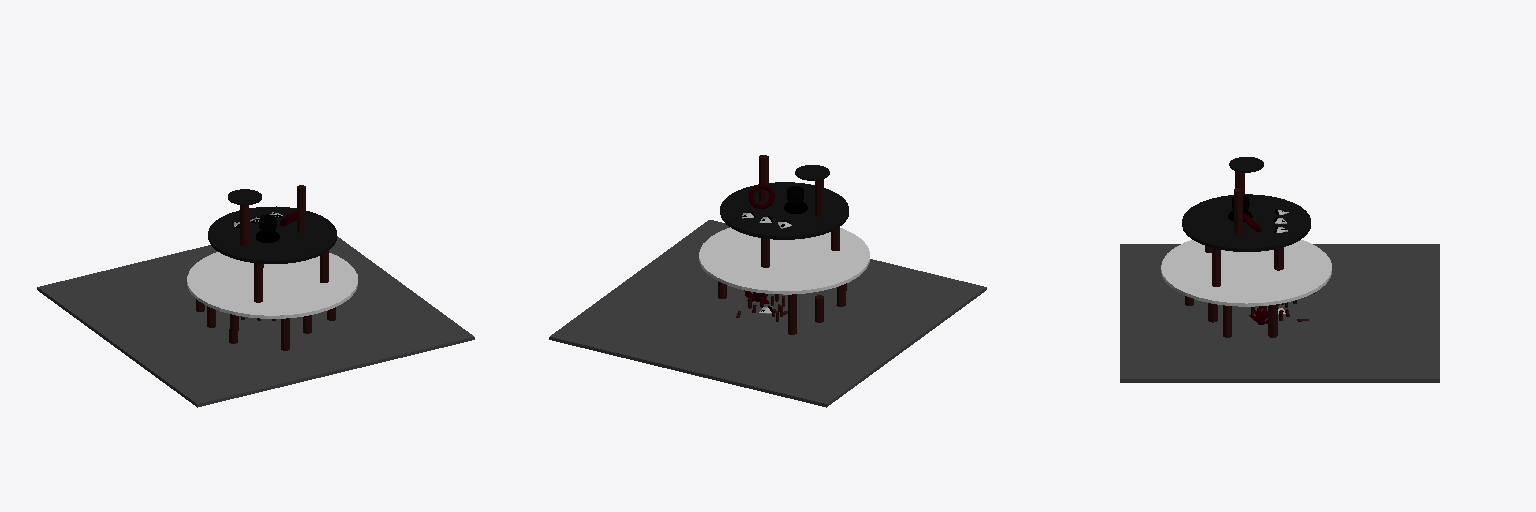
The model's file is scene_eval_2.obj.
3 views of the same model, side by side, from view 1: azimuth 30°, elevation 25°; view 2: azimuth 150°, elevation 25°; view 3: azimuth 270°, elevation 25° (orthographic).
Parts seen in each view (by area): view 1: Cube, Cylinder.020, Cylinder.023; view 2: Cube, Cylinder.020, Cylinder.023; view 3: Cube, Cylinder.020, Cylinder.023.
Part boxes in pixels (x1,y1,x2,y2): Cube: (37, 236, 474, 407); Cylinder.020: (187, 252, 357, 318); Cylinder.023: (208, 206, 336, 263); Cube: (549, 220, 986, 407); Cylinder.020: (699, 227, 869, 294); Cylinder.023: (720, 182, 848, 239); Cube: (1120, 244, 1439, 382); Cylinder.020: (1161, 240, 1331, 306); Cylinder.023: (1182, 194, 1310, 251).
Size of the model in its own units: 176 by 95.16 by 176.